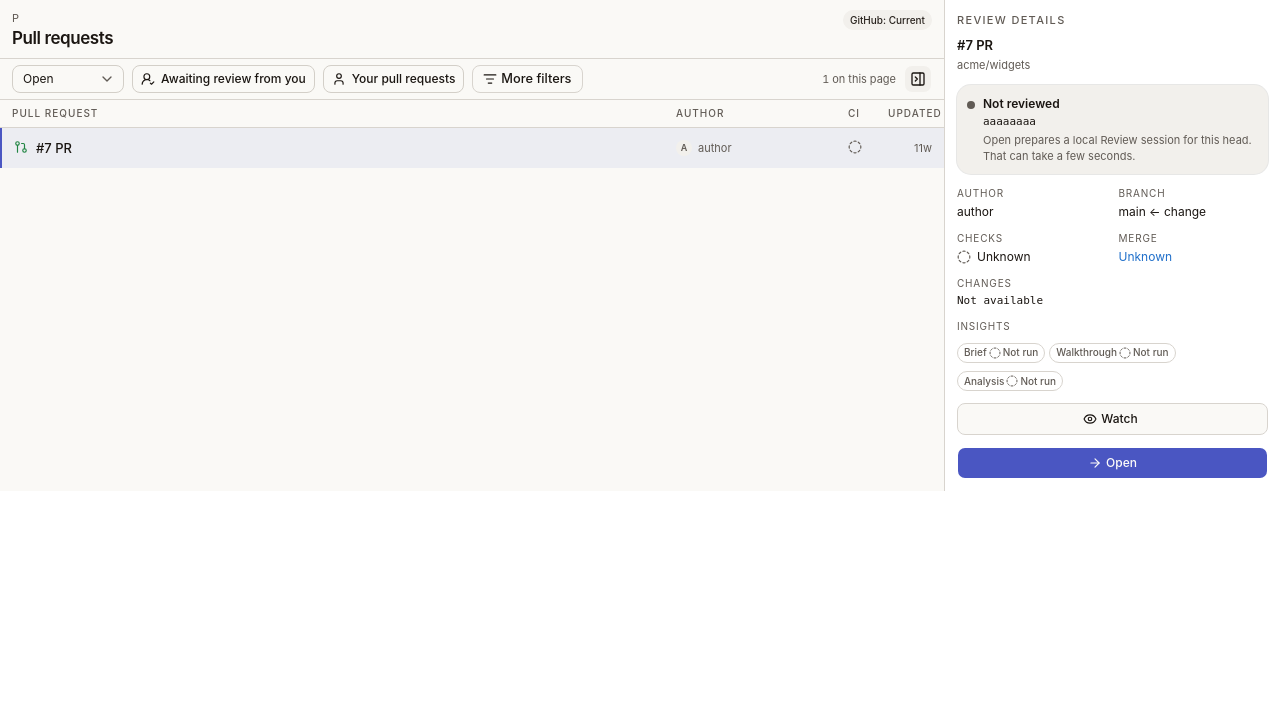
Test: Watch toggle surfaces › watches from the Pull requests inspector and marks the row
The width and height of the screenshot is (1280, 720).
Click the button "Watch": (1112, 419) [957,403,1268,435]
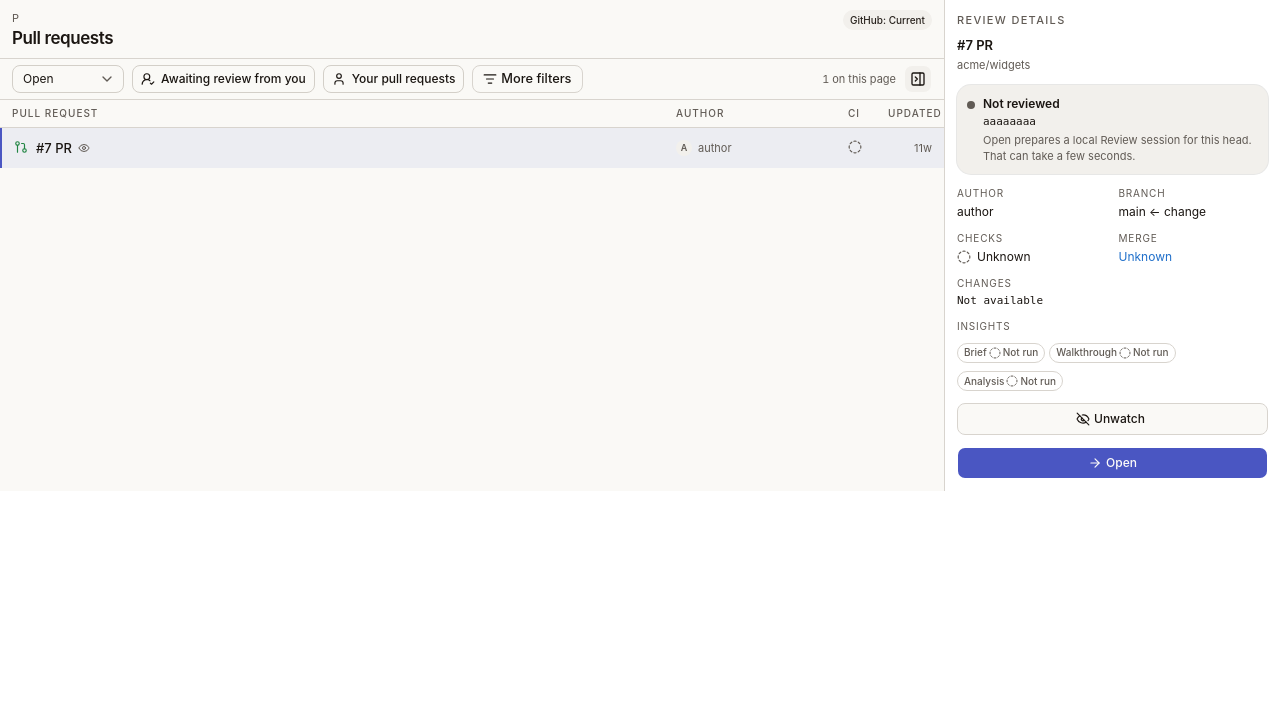
Expected: the option named "Watched" is shown, [0,128,944,168]
Result: the button "Unwatch" is shown at [957,403,1268,435]
